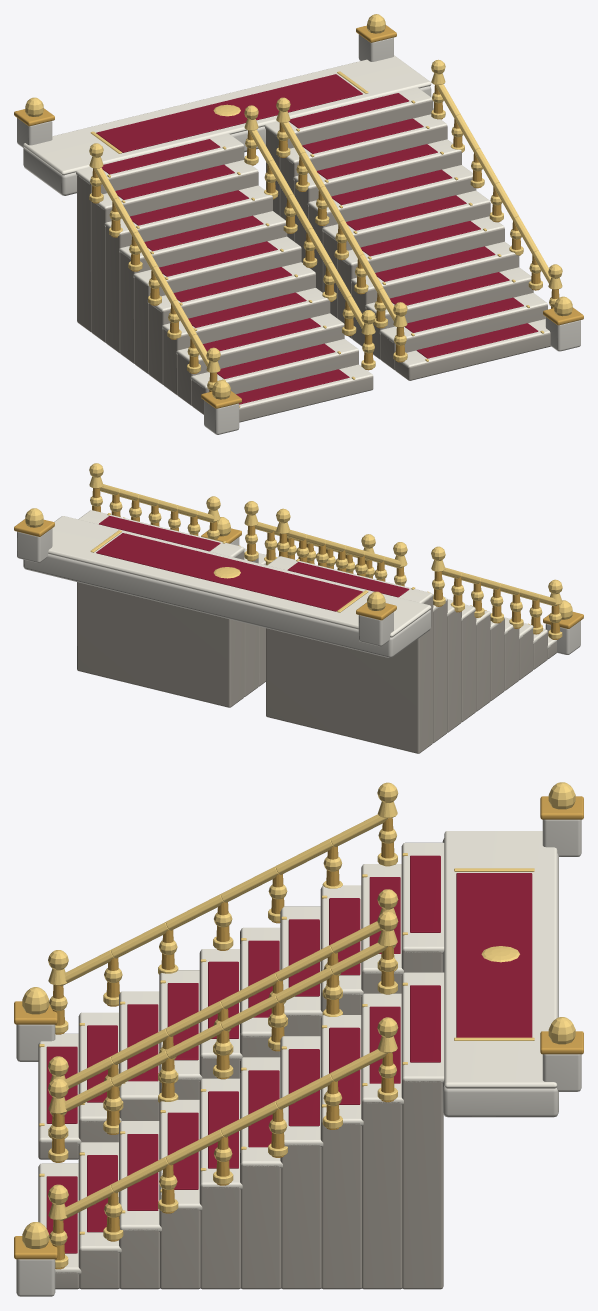
Rendered from escadaria_luxuosa.glb.
3 views of the same model, one above another, from view 1: azimuth 30°, elevation 25°; view 2: azimuth 150°, elevation 25°; view 3: azimuth 270°, elevation 25° (orthographic). The views are drawn at different scales.
Visible parts, largest first — view 1: Voo 1 | degrau 01 | espelho; view 2: Voo 1 | degrau 01 | espelho; view 3: Voo 1 | degrau 01 | espelho.
Part boxes in pixels (left/top/right/bottom): Voo 1 | degrau 01 | espelho: left=14, top=14, right=583, bottom=434; Voo 1 | degrau 01 | espelho: left=14, top=463, right=583, bottom=753; Voo 1 | degrau 01 | espelho: left=14, top=782, right=583, bottom=1296.
Size of the model in its own units: 3.72 by 1.86 by 3.53.
